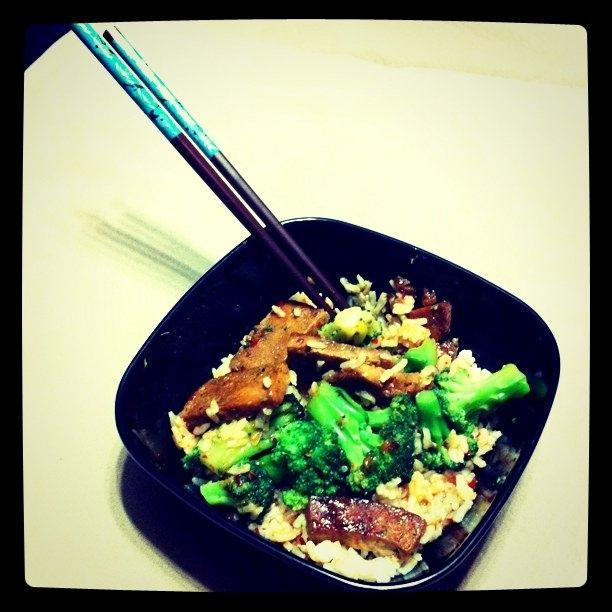broccoli: (306, 378, 422, 492), (180, 394, 306, 478), (433, 350, 530, 438), (256, 420, 350, 496), (321, 306, 383, 348), (237, 461, 275, 507), (404, 337, 438, 368)
